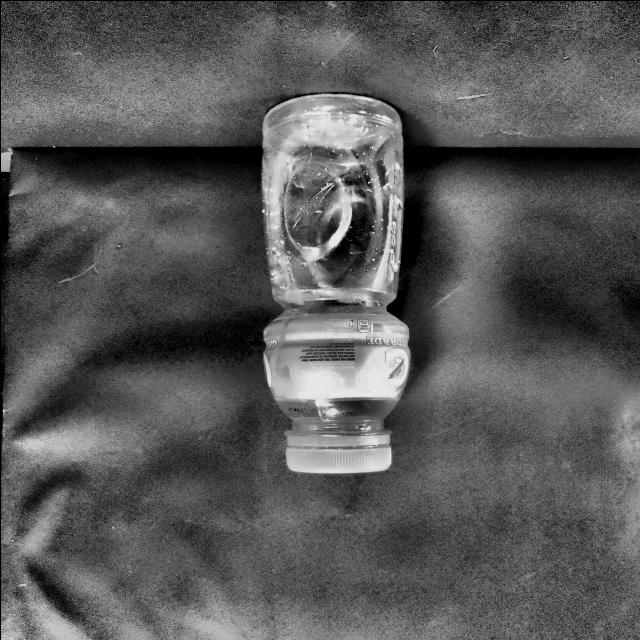Plastic-Bottle: (254, 90, 408, 476)
